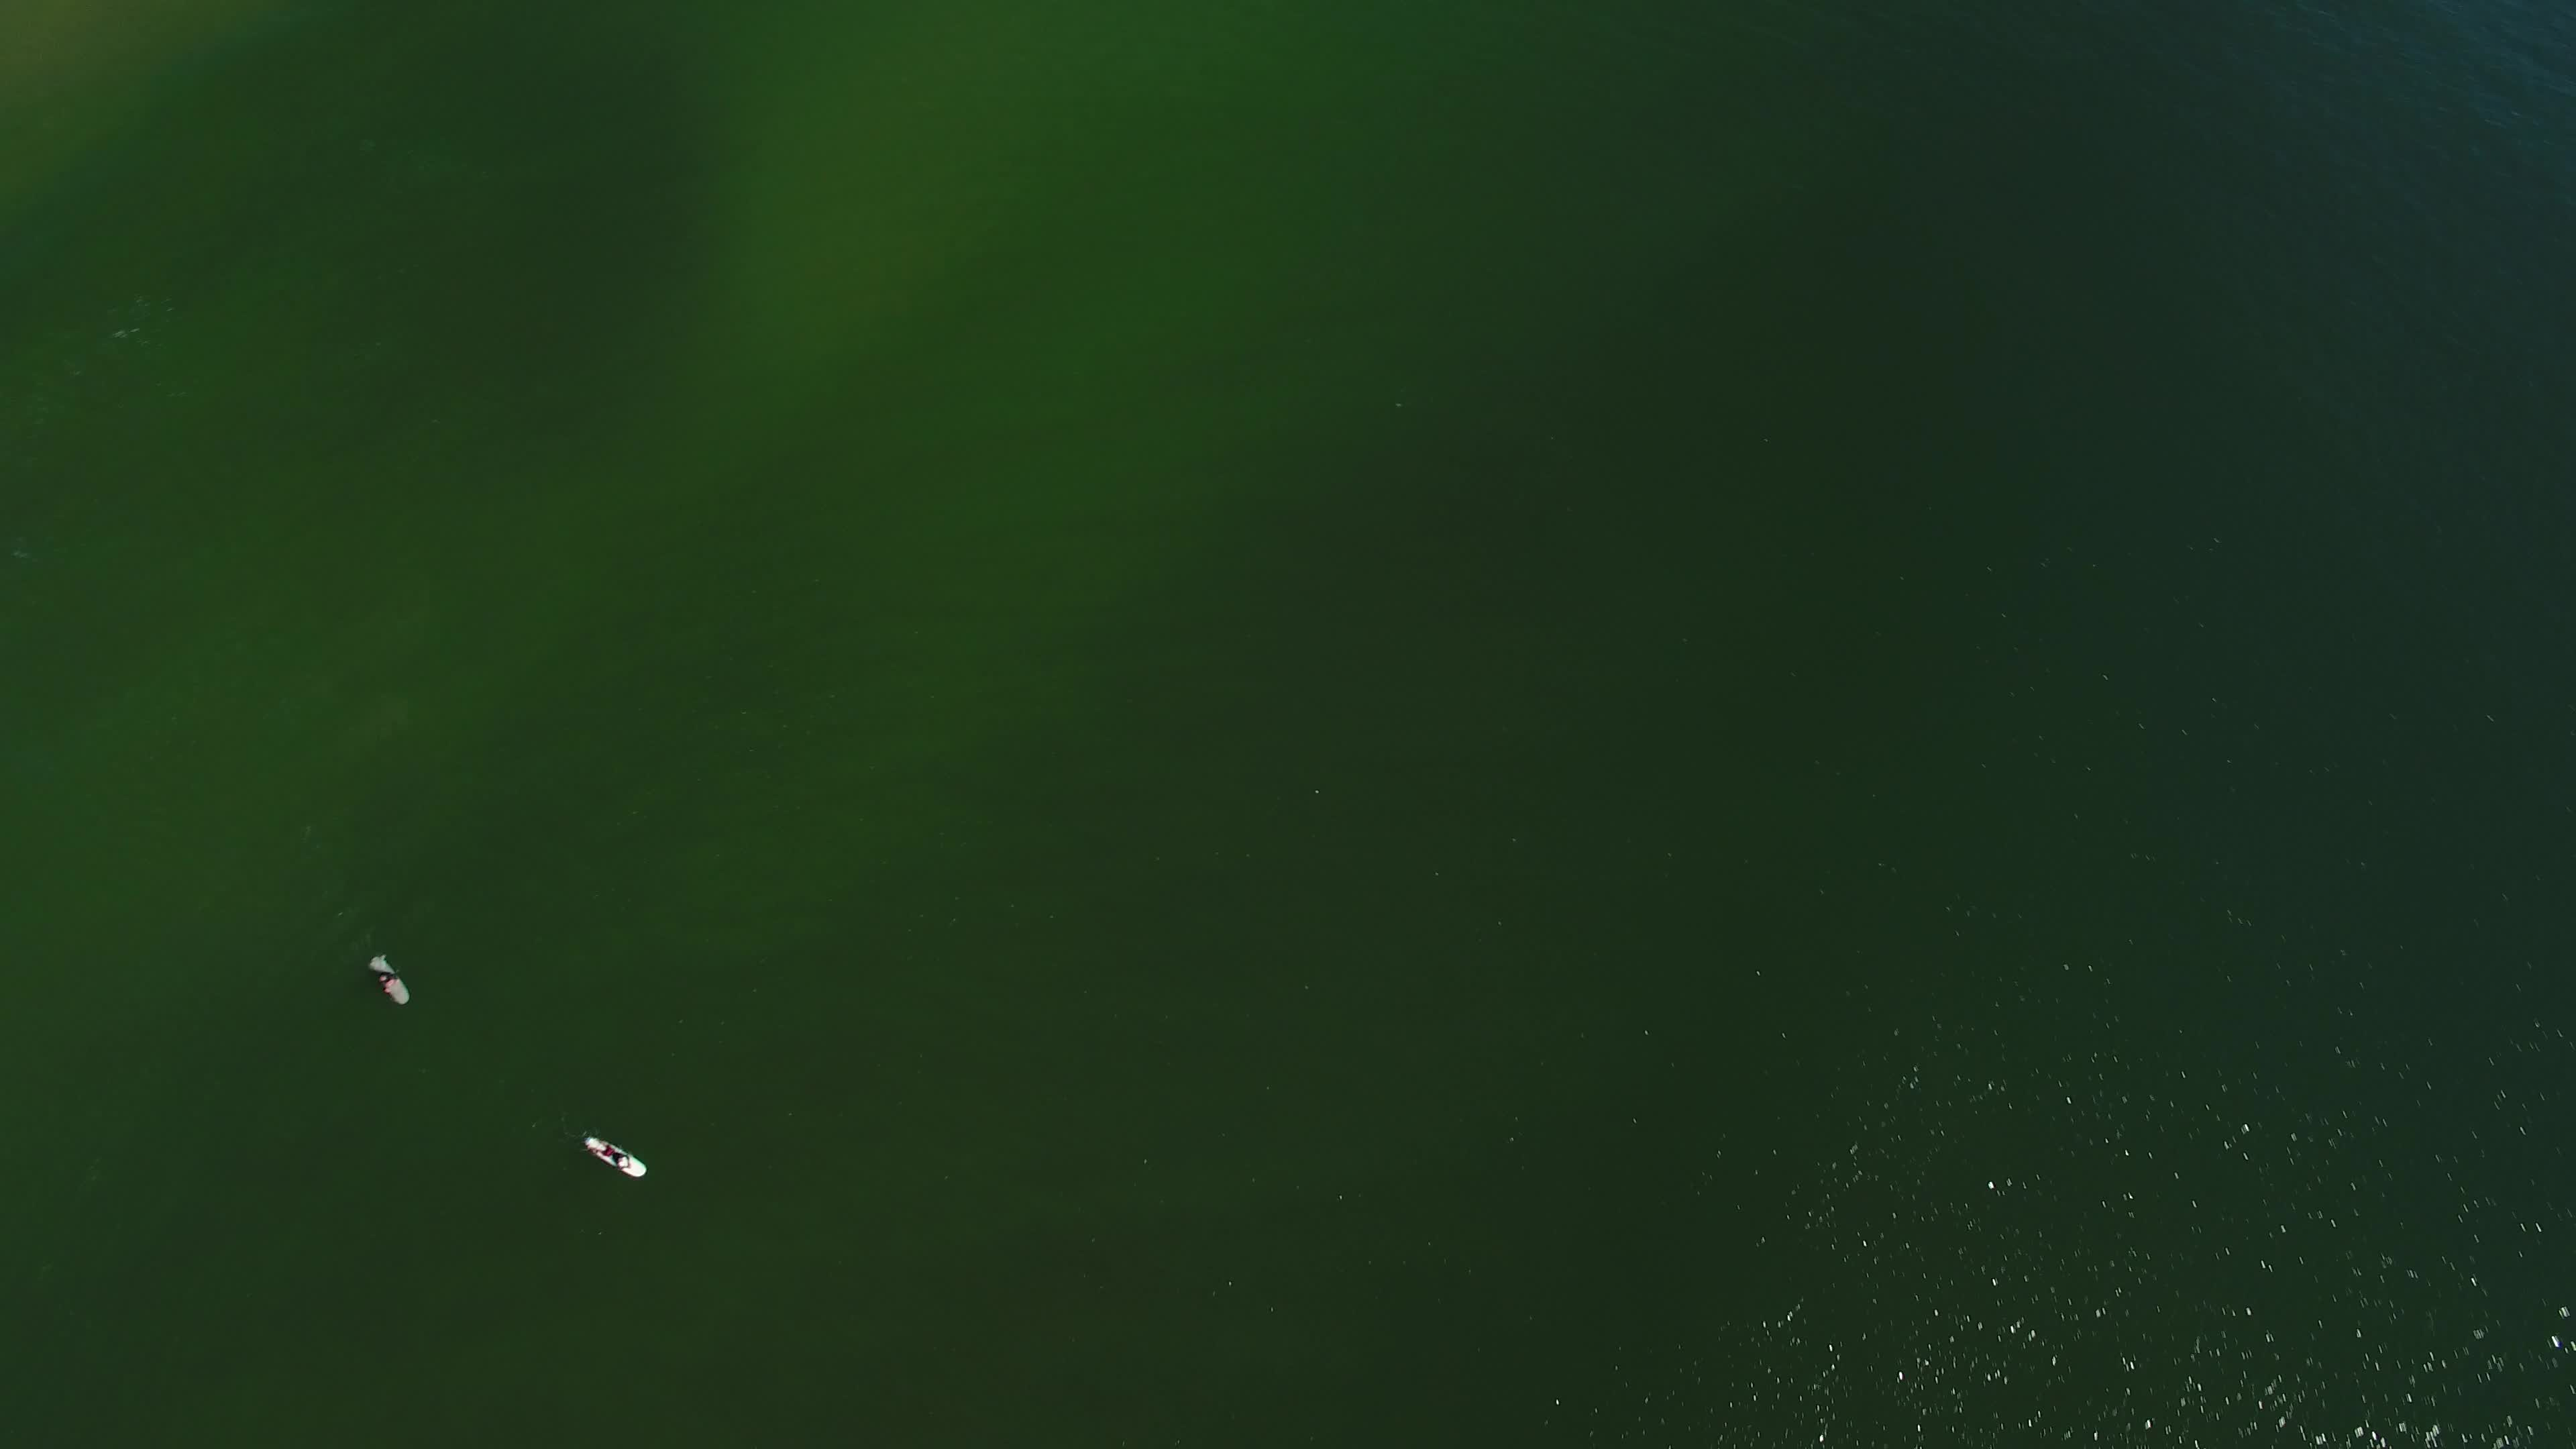surfer: (570, 1118, 653, 1187), (357, 950, 421, 1007)
